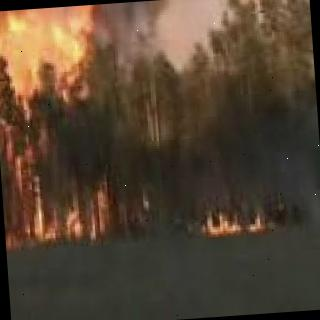fire: (0, 4, 117, 244), (201, 198, 273, 236)
